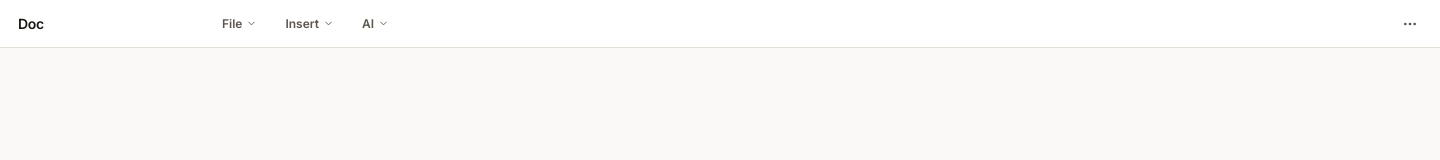
Test: TopBar › keeps undo and redo in the File menu rather than the bar
Click the button with test id "topbar-file" at point(240, 24), box [212,10,267,38]
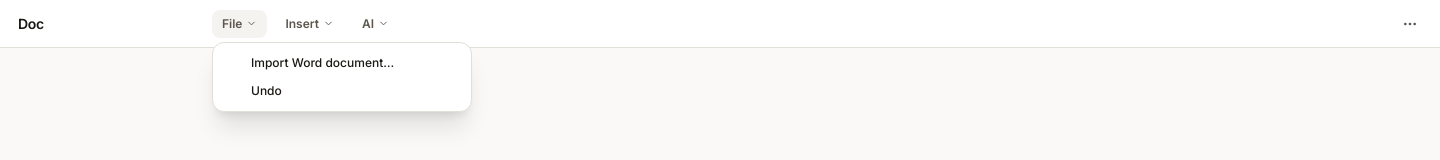
expect the menu item with test id "item-undo" is shown: met, box [219,76,465,104]
